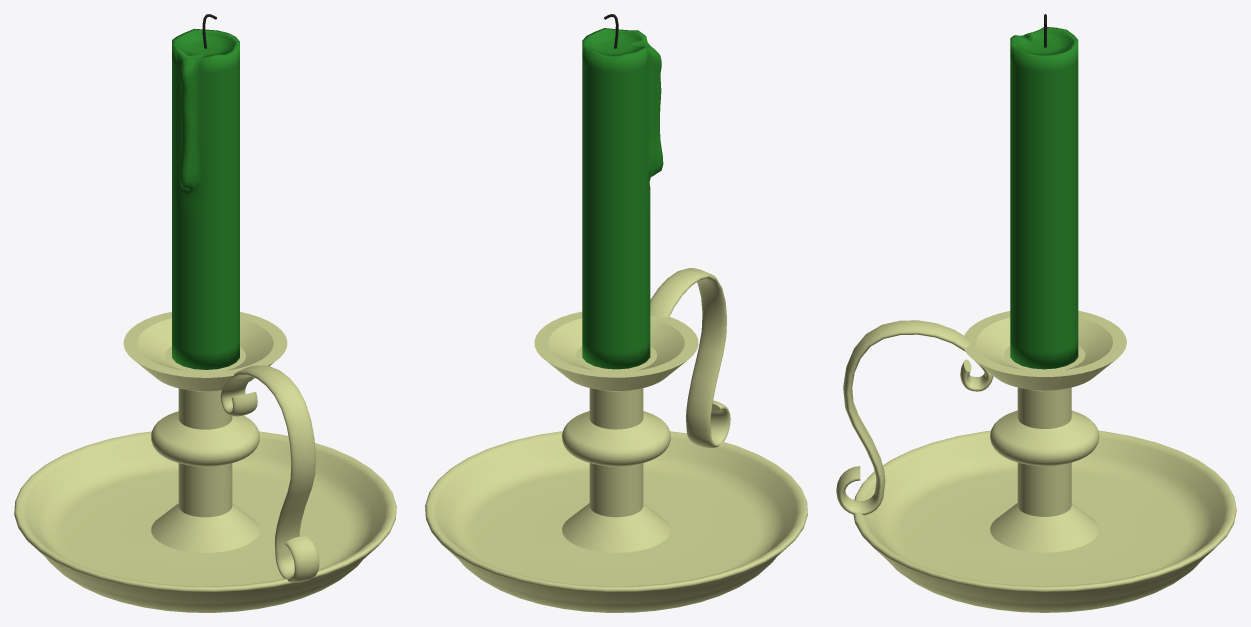
The model's file is candle.FBX.
3 views of the same model, side by side, from view 1: azimuth 30°, elevation 25°; view 2: azimuth 150°, elevation 25°; view 3: azimuth 270°, elevation 25° (orthographic).
Visible parts, largest first — view 1: Kertze; view 2: Kertze; view 3: Kertze.
Part boxes in pixels (box(x1,y1,x2,y2)): Kertze: box(14, 14, 396, 612); Kertze: box(425, 14, 807, 612); Kertze: box(836, 14, 1236, 612).
Size of the model in its own units: 277 by 429 by 289.
